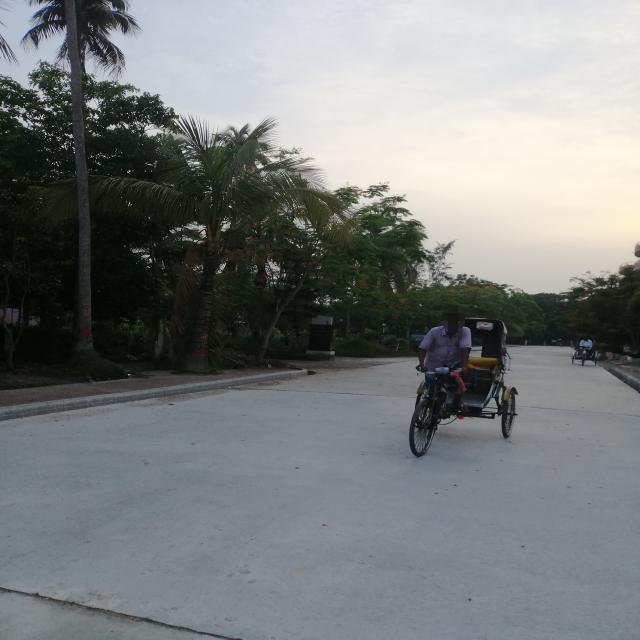Auto-Rickshaw: (370, 299, 557, 471)
